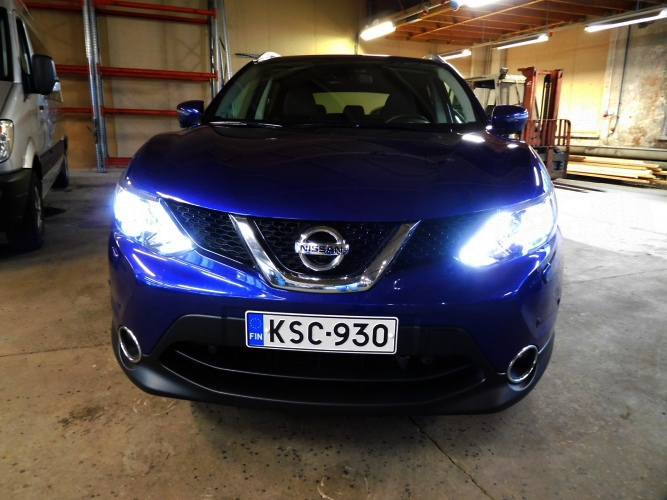license: (244, 307, 397, 361)
